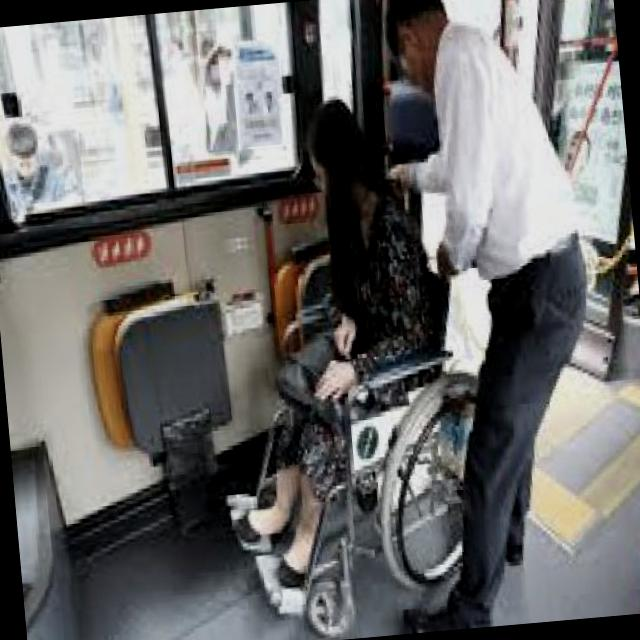Person: (192, 86, 498, 640), (348, 0, 617, 630)
